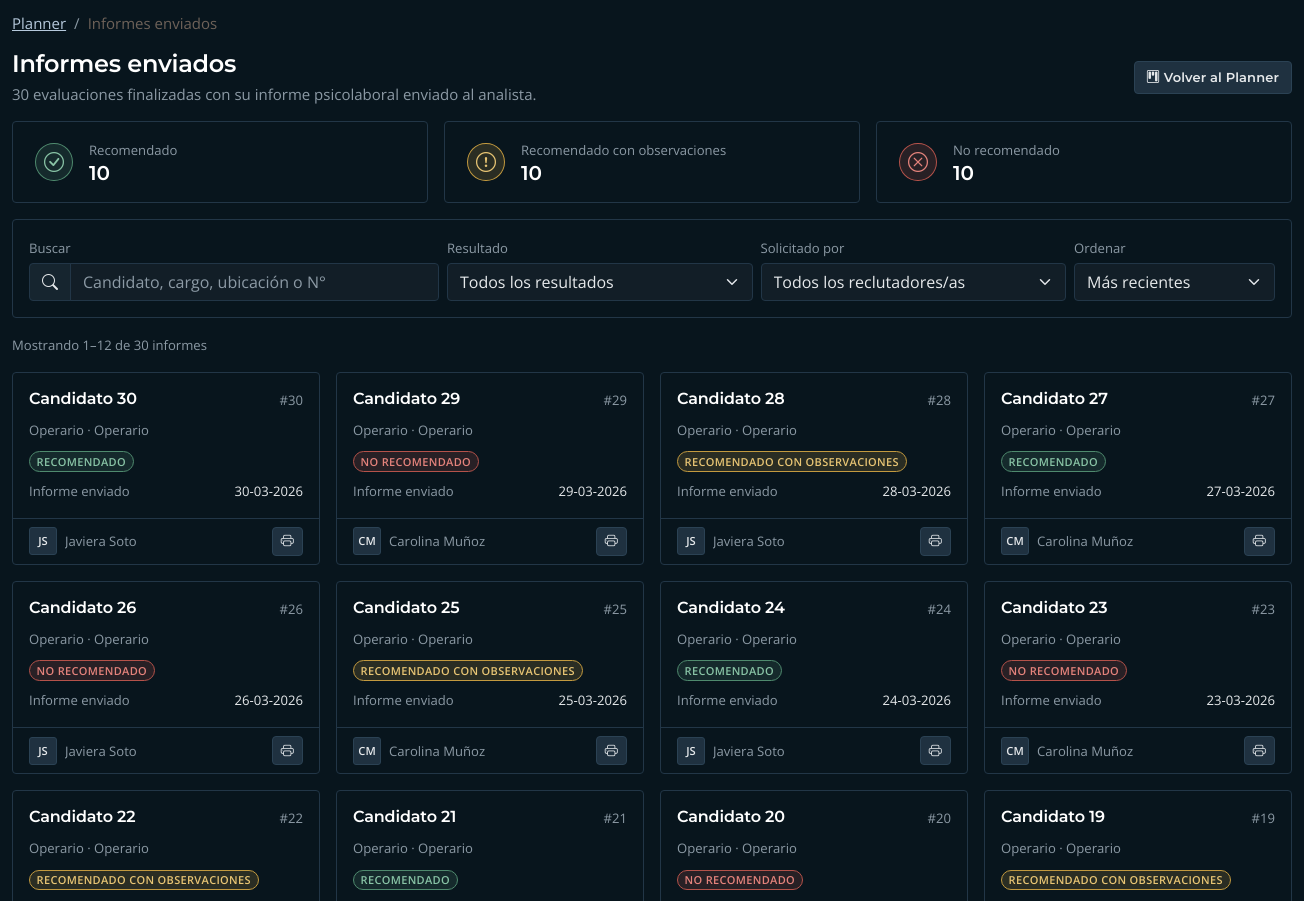
Test case: InformesEnviados › ordena por nombre
The width and height of the screenshot is (1304, 901).
Select "Nombre (A-Z)" in the dropdown labelled "Ordenar" at (1174, 282), box [1074,263,1275,301]
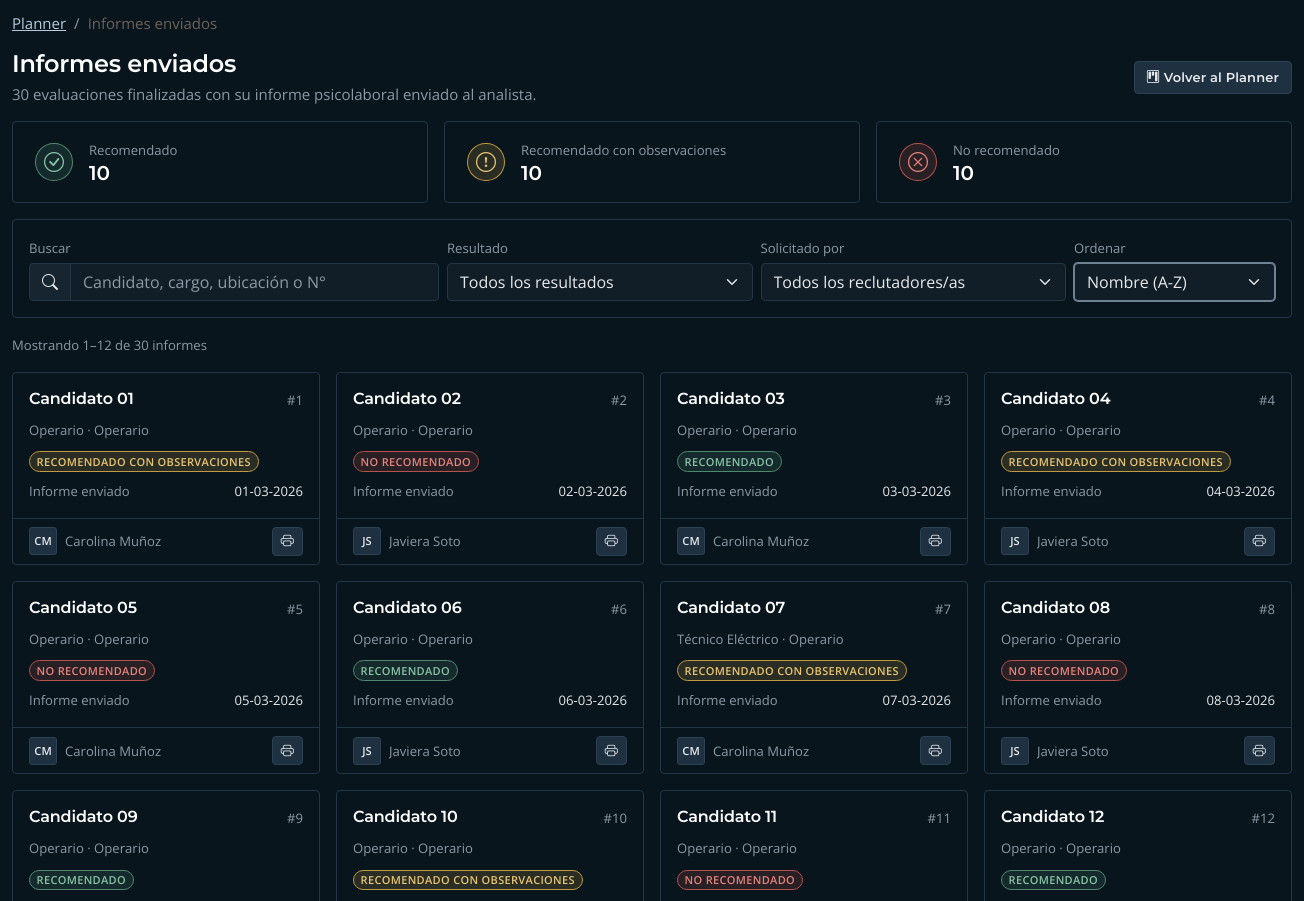
expect the link "Candidato 01" is shown: met, box [29,389,134,408]
